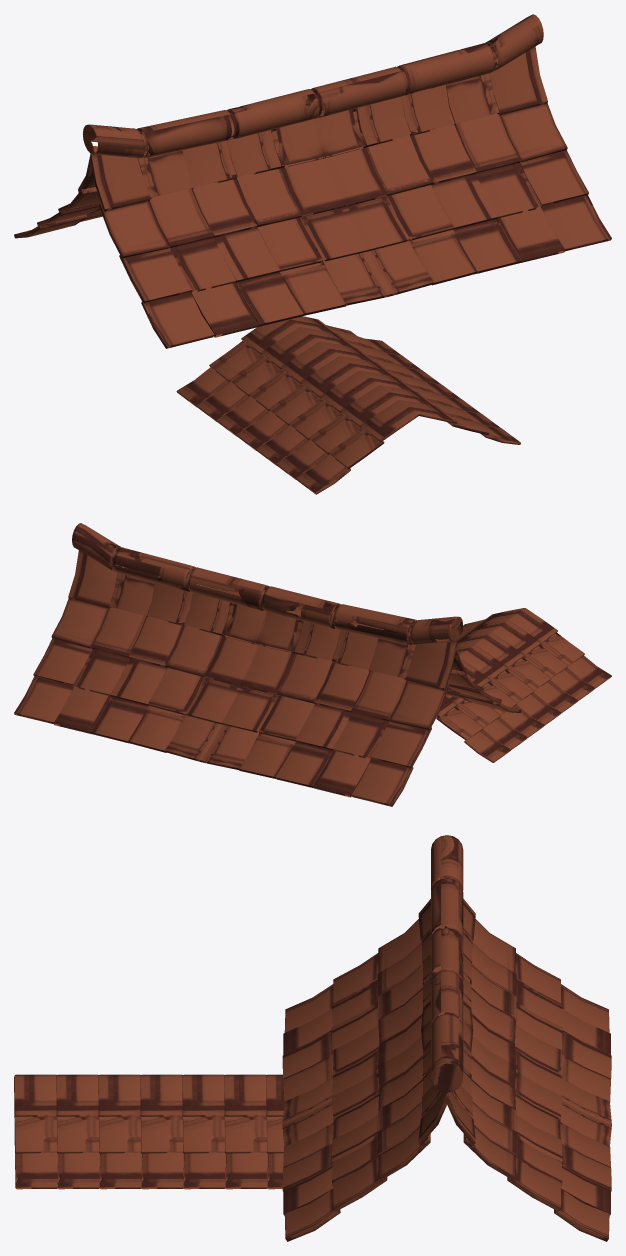
The model's file is roof.fbx.
3 views of the same model, one above another, from view 1: azimuth 30°, elevation 25°; view 2: azimuth 150°, elevation 25°; view 3: azimuth 270°, elevation 25° (orthographic). The views are drawn at different scales.
Parts seen in each view (by area): view 1: roof tiles, catto broom roof, Roof top; view 2: roof tiles, catto broom roof, Roof top; view 3: roof tiles, catto broom roof, Roof top.
Part boxes in pixels (box(x1,y1,x2,y2)): roof tiles: box(14, 46, 611, 348); catto broom roof: box(176, 316, 520, 494); Roof top: box(83, 14, 543, 158); roof tiles: box(14, 550, 521, 806); catto broom roof: box(436, 608, 611, 762); Roof top: box(72, 523, 462, 645); roof tiles: box(282, 899, 611, 1241); catto broom roof: box(14, 1074, 284, 1189); Roof top: box(431, 835, 463, 1092).
Bounding box in the file's own units: 1203 × 585 × 1324.
1 material, 1 textured.
